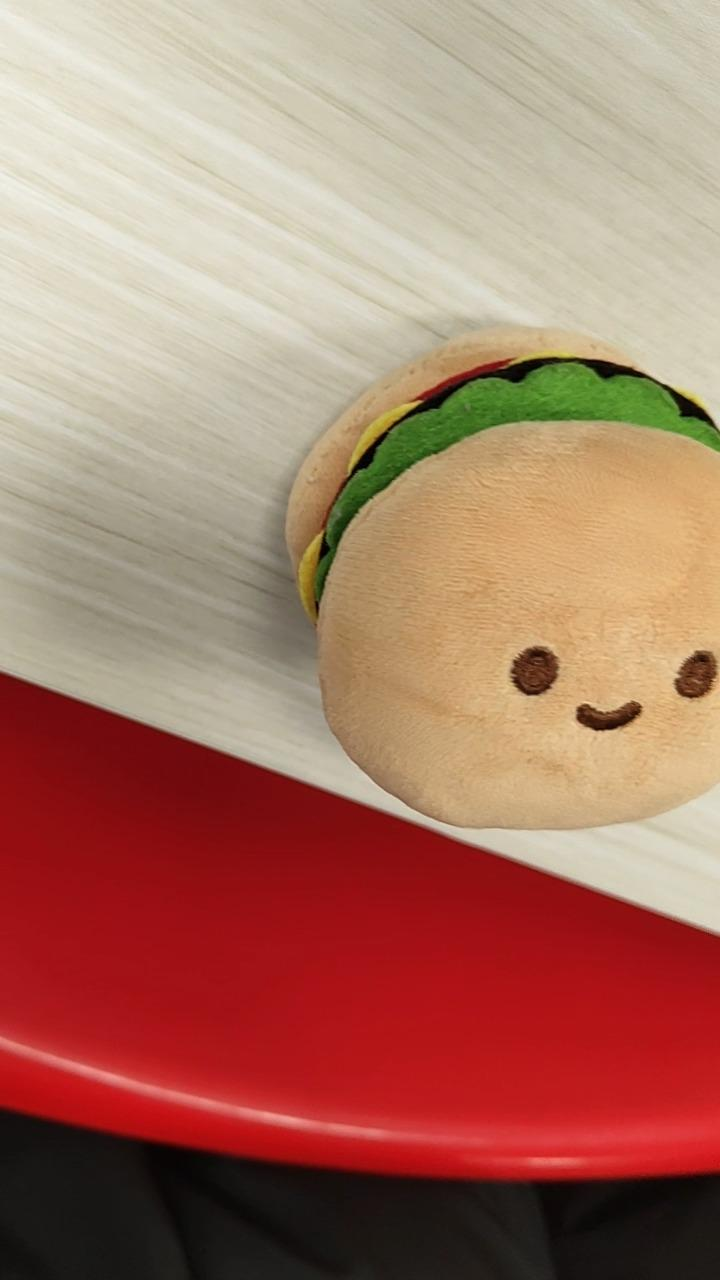hamburger: (283, 321, 718, 832)
